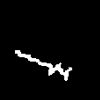double_crochet: (15, 50, 71, 80)
